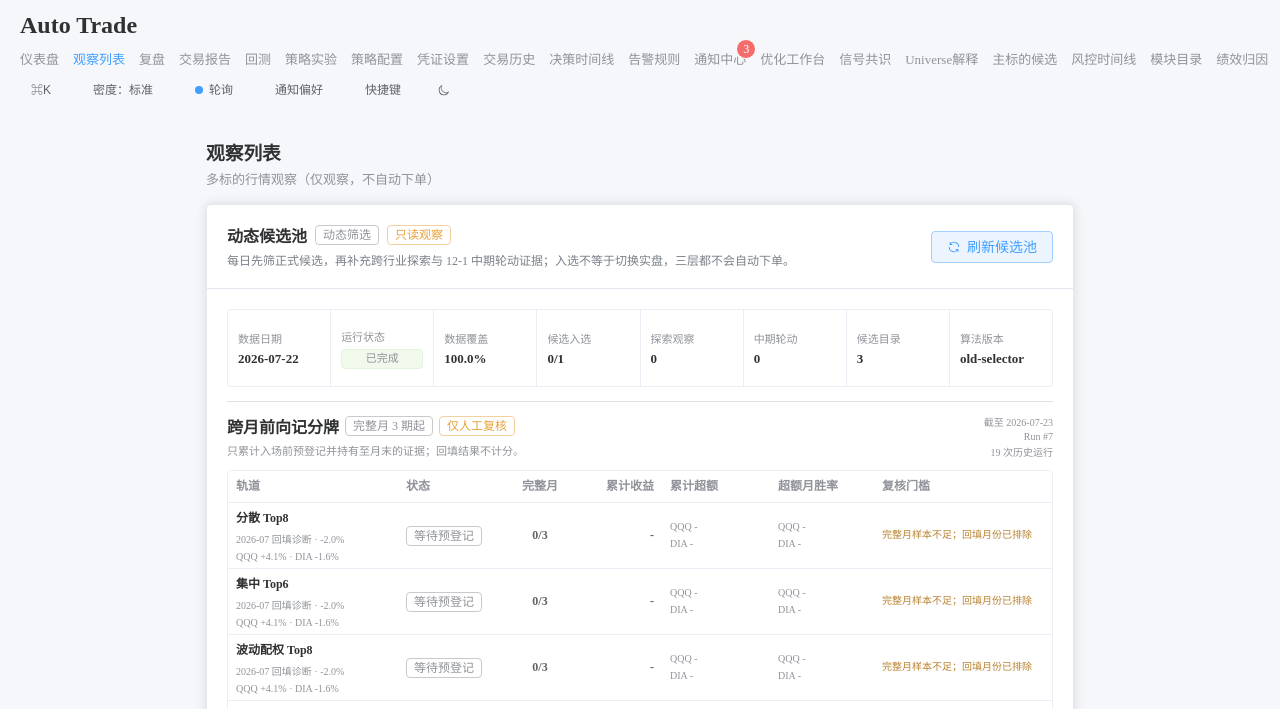
Test: Watchlist latest-response wins › does not let a slow latest-run request replace a manual refresh
Click the button with test id "universe-refresh". click: (992, 247)
box: [931, 231, 1053, 263]
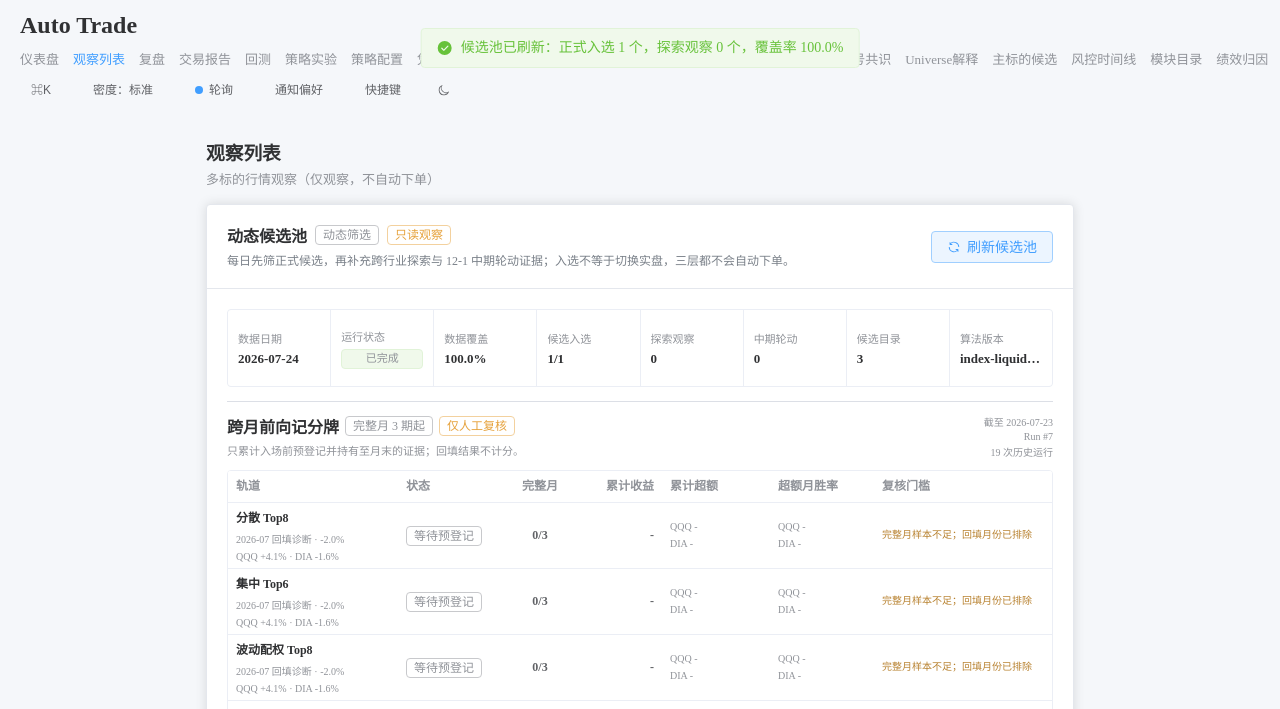
Result: the text with test id "universe-as-of" reads "2026-07-24" at [238, 351, 299, 366]
Result: the text with test id "universe-panel" no longer shows "old-selector"
